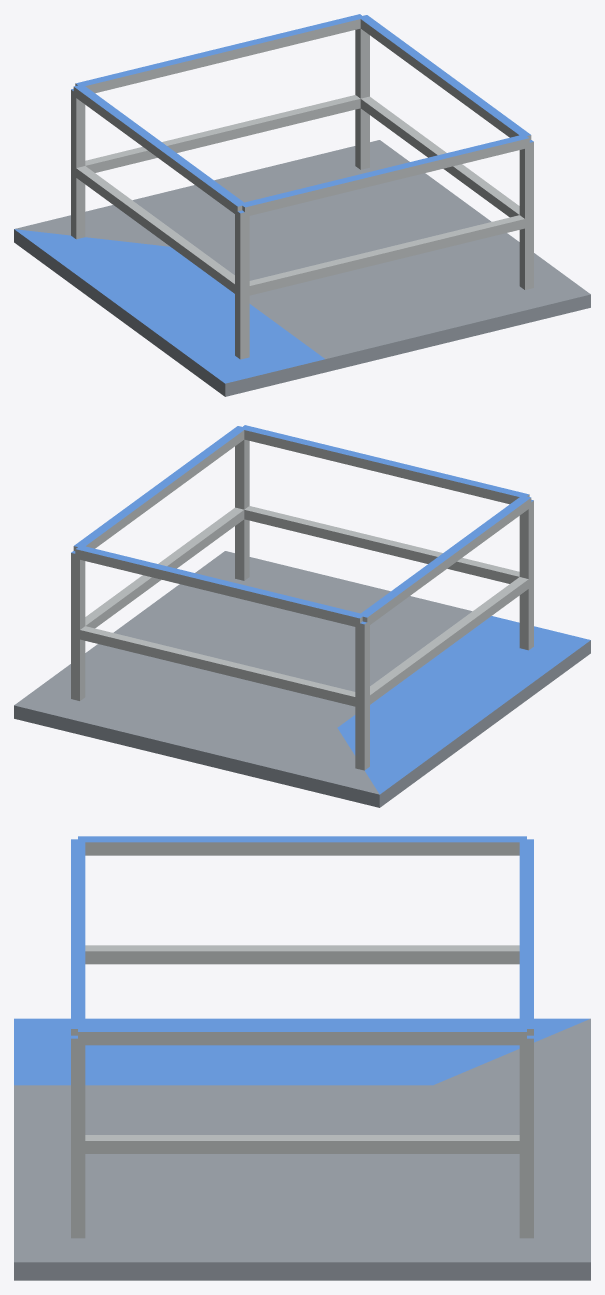
File: veyran_fortified_bunker_scaffolding.glb
3 renders of one model, top to bottom at view 1: azimuth 30°, elevation 25°; view 2: azimuth 150°, elevation 25°; view 3: azimuth 270°, elevation 25°, orthographic. The views are drawn at different scales.
Visible parts, largest first — view 1: hull; view 2: hull; view 3: hull.
Part boxes in pixels (left/top/right/bottom): hull: left=14, top=14, right=590, bottom=396; hull: left=14, top=425, right=590, bottom=807; hull: left=14, top=836, right=590, bottom=1280.
Bounding box in the file's own units: 7.2 × 3.09 × 7.2.
